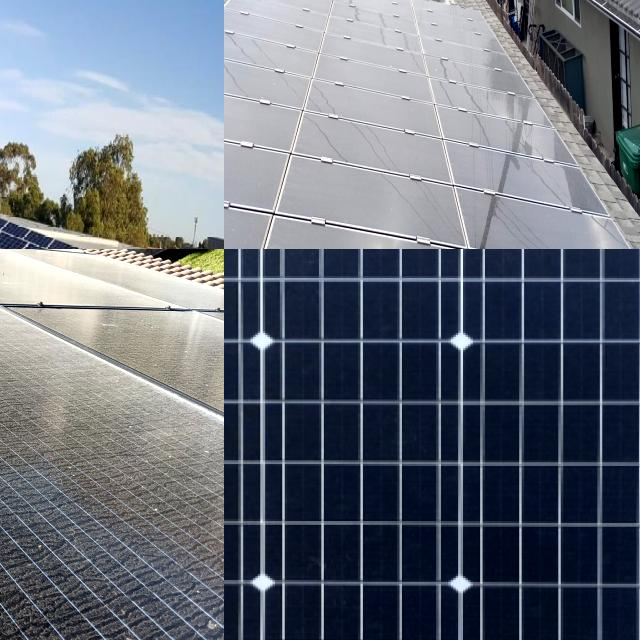crack: (224, 249, 640, 640)
dust: (60, 536, 224, 640), (62, 396, 189, 508), (0, 460, 84, 588), (0, 392, 90, 508), (0, 528, 72, 640), (0, 323, 63, 450), (164, 319, 224, 413), (0, 312, 66, 380), (358, 221, 459, 249), (0, 316, 39, 385), (584, 207, 637, 249), (224, 189, 241, 249), (0, 395, 18, 449)
